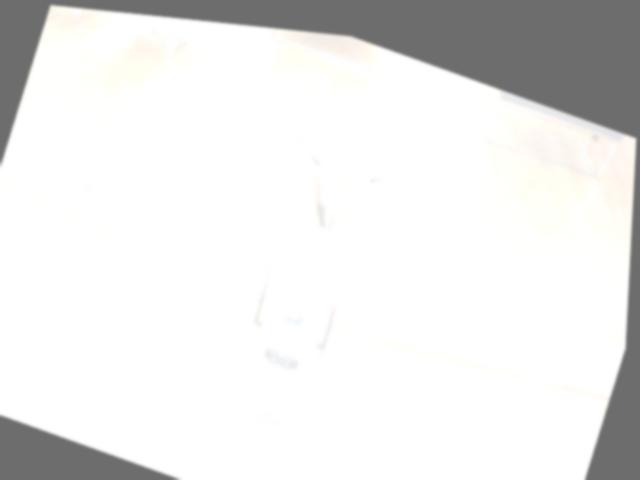iha: (0, 8, 640, 480)
